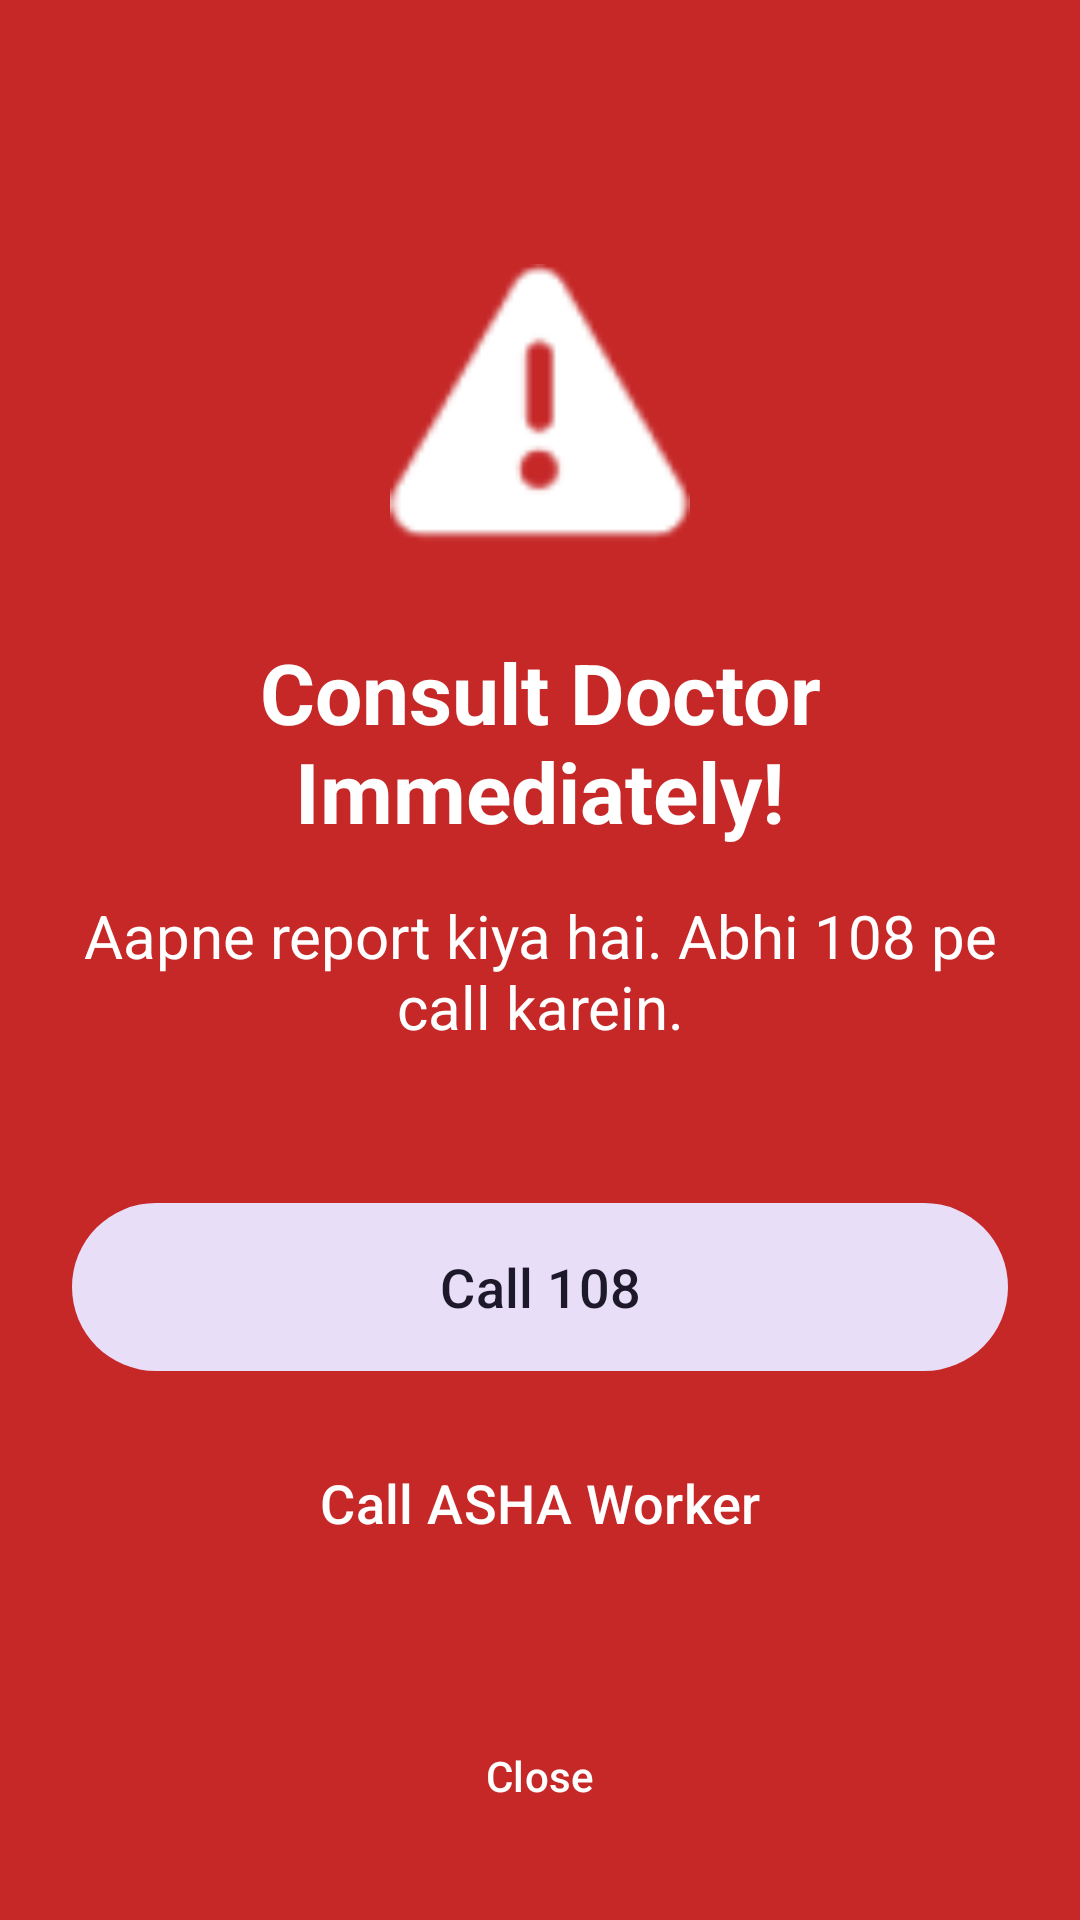

Icon click points for this 1080 x 1920 phone screenshot, format point (x, y):
alert: point (540, 401)
